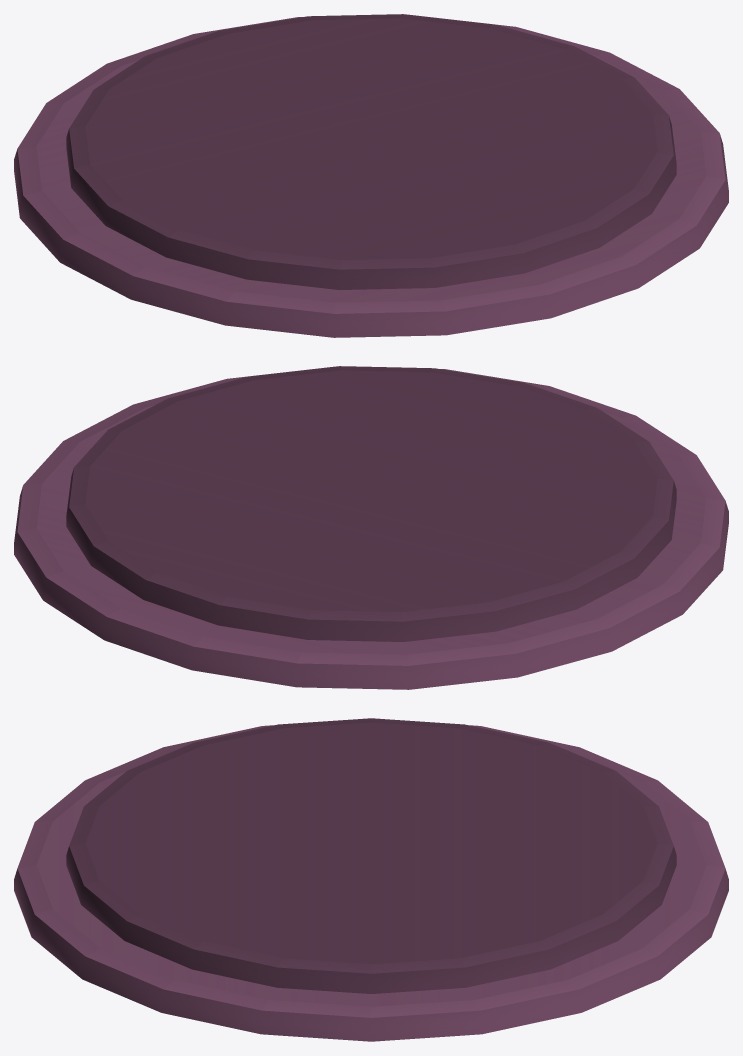
File: Podium.FBX
3 renders of one model, top to bottom at view 1: azimuth 30°, elevation 25°; view 2: azimuth 150°, elevation 25°; view 3: azimuth 270°, elevation 25°, orthographic.
Visible parts, largest first — view 1: Podium; view 2: Podium; view 3: Podium.
Part boxes in pixels (x1,y1,x2,y2): Podium: (14, 14, 728, 337); Podium: (14, 366, 728, 689); Podium: (14, 718, 728, 1041).
Bounding box in the file's own units: 52.32 × 3.82 × 52.32.
Materials: 1 (1 with a texture image).
